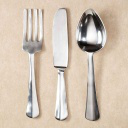Fork: (18, 3, 46, 121)
